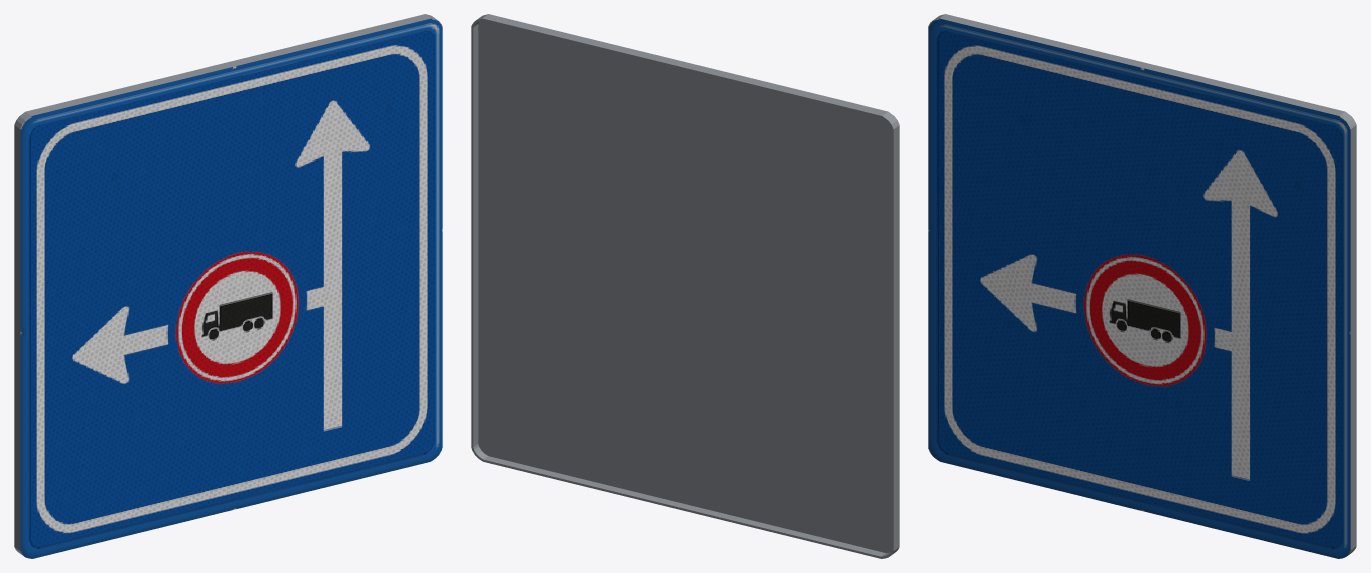
3 views of the same model, side by side, from view 1: azimuth 30°, elevation 25°; view 2: azimuth 150°, elevation 25°; view 3: azimuth 330°, elevation 25° (orthographic).
Parts seen in each view (by area): view 1: cat_060277b0dc382a59; view 2: cat_060277b0dc382a59; view 3: cat_060277b0dc382a59.
Boxes of the visible parts, bbox=[...] form: cat_060277b0dc382a59: bbox=[14, 14, 442, 558]; cat_060277b0dc382a59: bbox=[471, 14, 899, 558]; cat_060277b0dc382a59: bbox=[928, 14, 1356, 558].
Bounding box in the file's own units: 0.6 × 0.015 × 0.6014.
2 materials, 1 textured.
